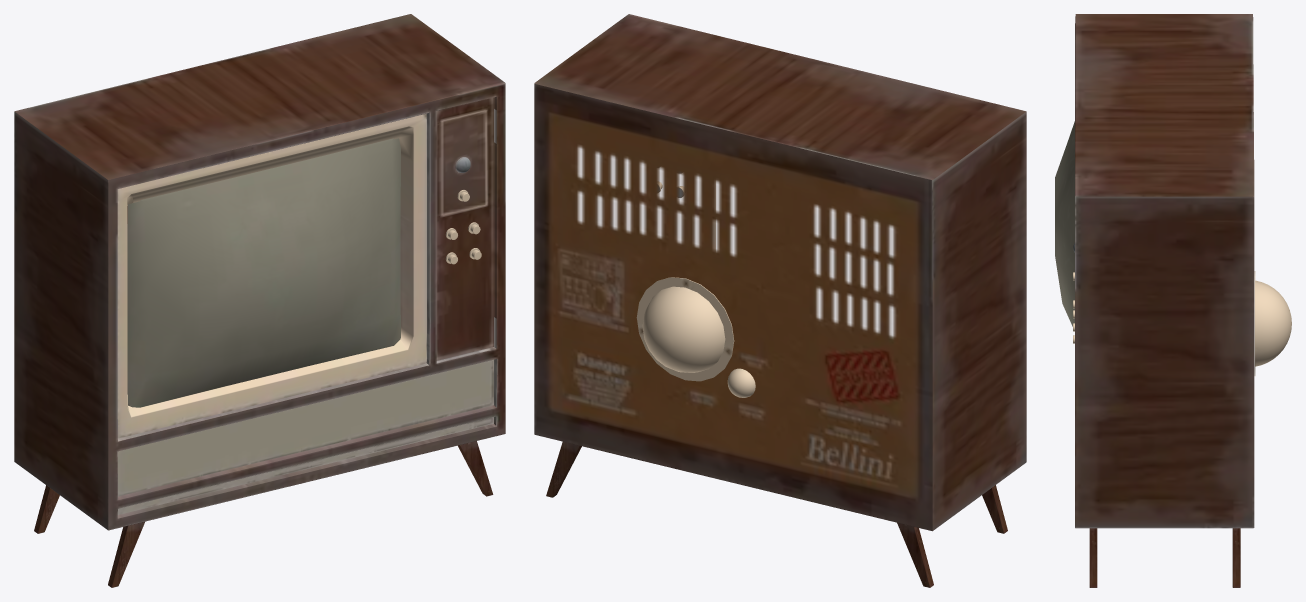
Rendered from crt.glb.
3 renders of one model, left to right at view 1: azimuth 30°, elevation 25°; view 2: azimuth 150°, elevation 25°; view 3: azimuth 270°, elevation 25°, orthographic. The views are drawn at different scales.
Visible parts, largest first — view 1: holder; view 2: holder; view 3: holder.
Boxes of the visible parts, left/top/right/bottom form: holder: left=14, top=14, right=505, bottom=587; holder: left=534, top=14, right=1026, bottom=587; holder: left=1055, top=14, right=1291, bottom=587.
Size of the model in its own units: 0.499 by 0.5 by 0.2729.
Materials: 1 (1 with a texture image).
